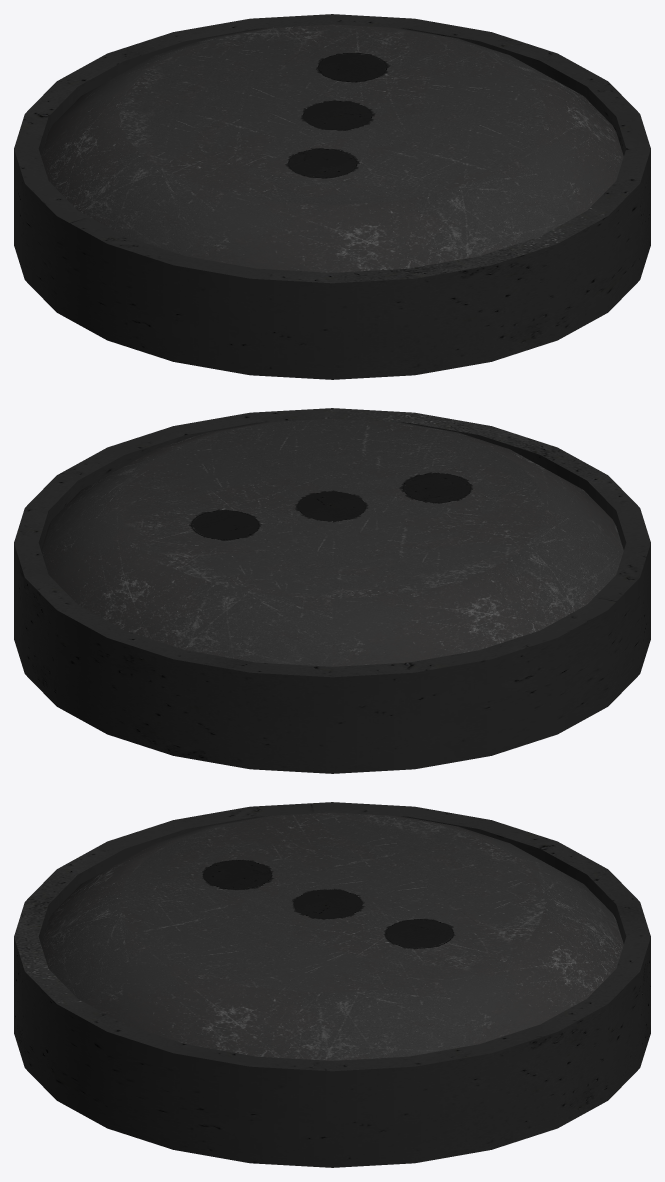
File: F_InfoButton_01 (1).fbx
3 views of the same model, one above another, from view 1: azimuth 30°, elevation 25°; view 2: azimuth 150°, elevation 25°; view 3: azimuth 270°, elevation 25° (orthographic).
Visible parts, largest first — view 1: F_InfoButton_01; view 2: F_InfoButton_01; view 3: F_InfoButton_01.
Part boxes in pixels (x1=…): F_InfoButton_01: x1=14, y1=14, x2=650, y2=379; F_InfoButton_01: x1=14, y1=408, x2=650, y2=773; F_InfoButton_01: x1=14, y1=802, x2=650, y2=1167.
Size of the model in its own units: 30.01 by 6.78 by 30.01.
Materials: 2 (2 with a texture image).
